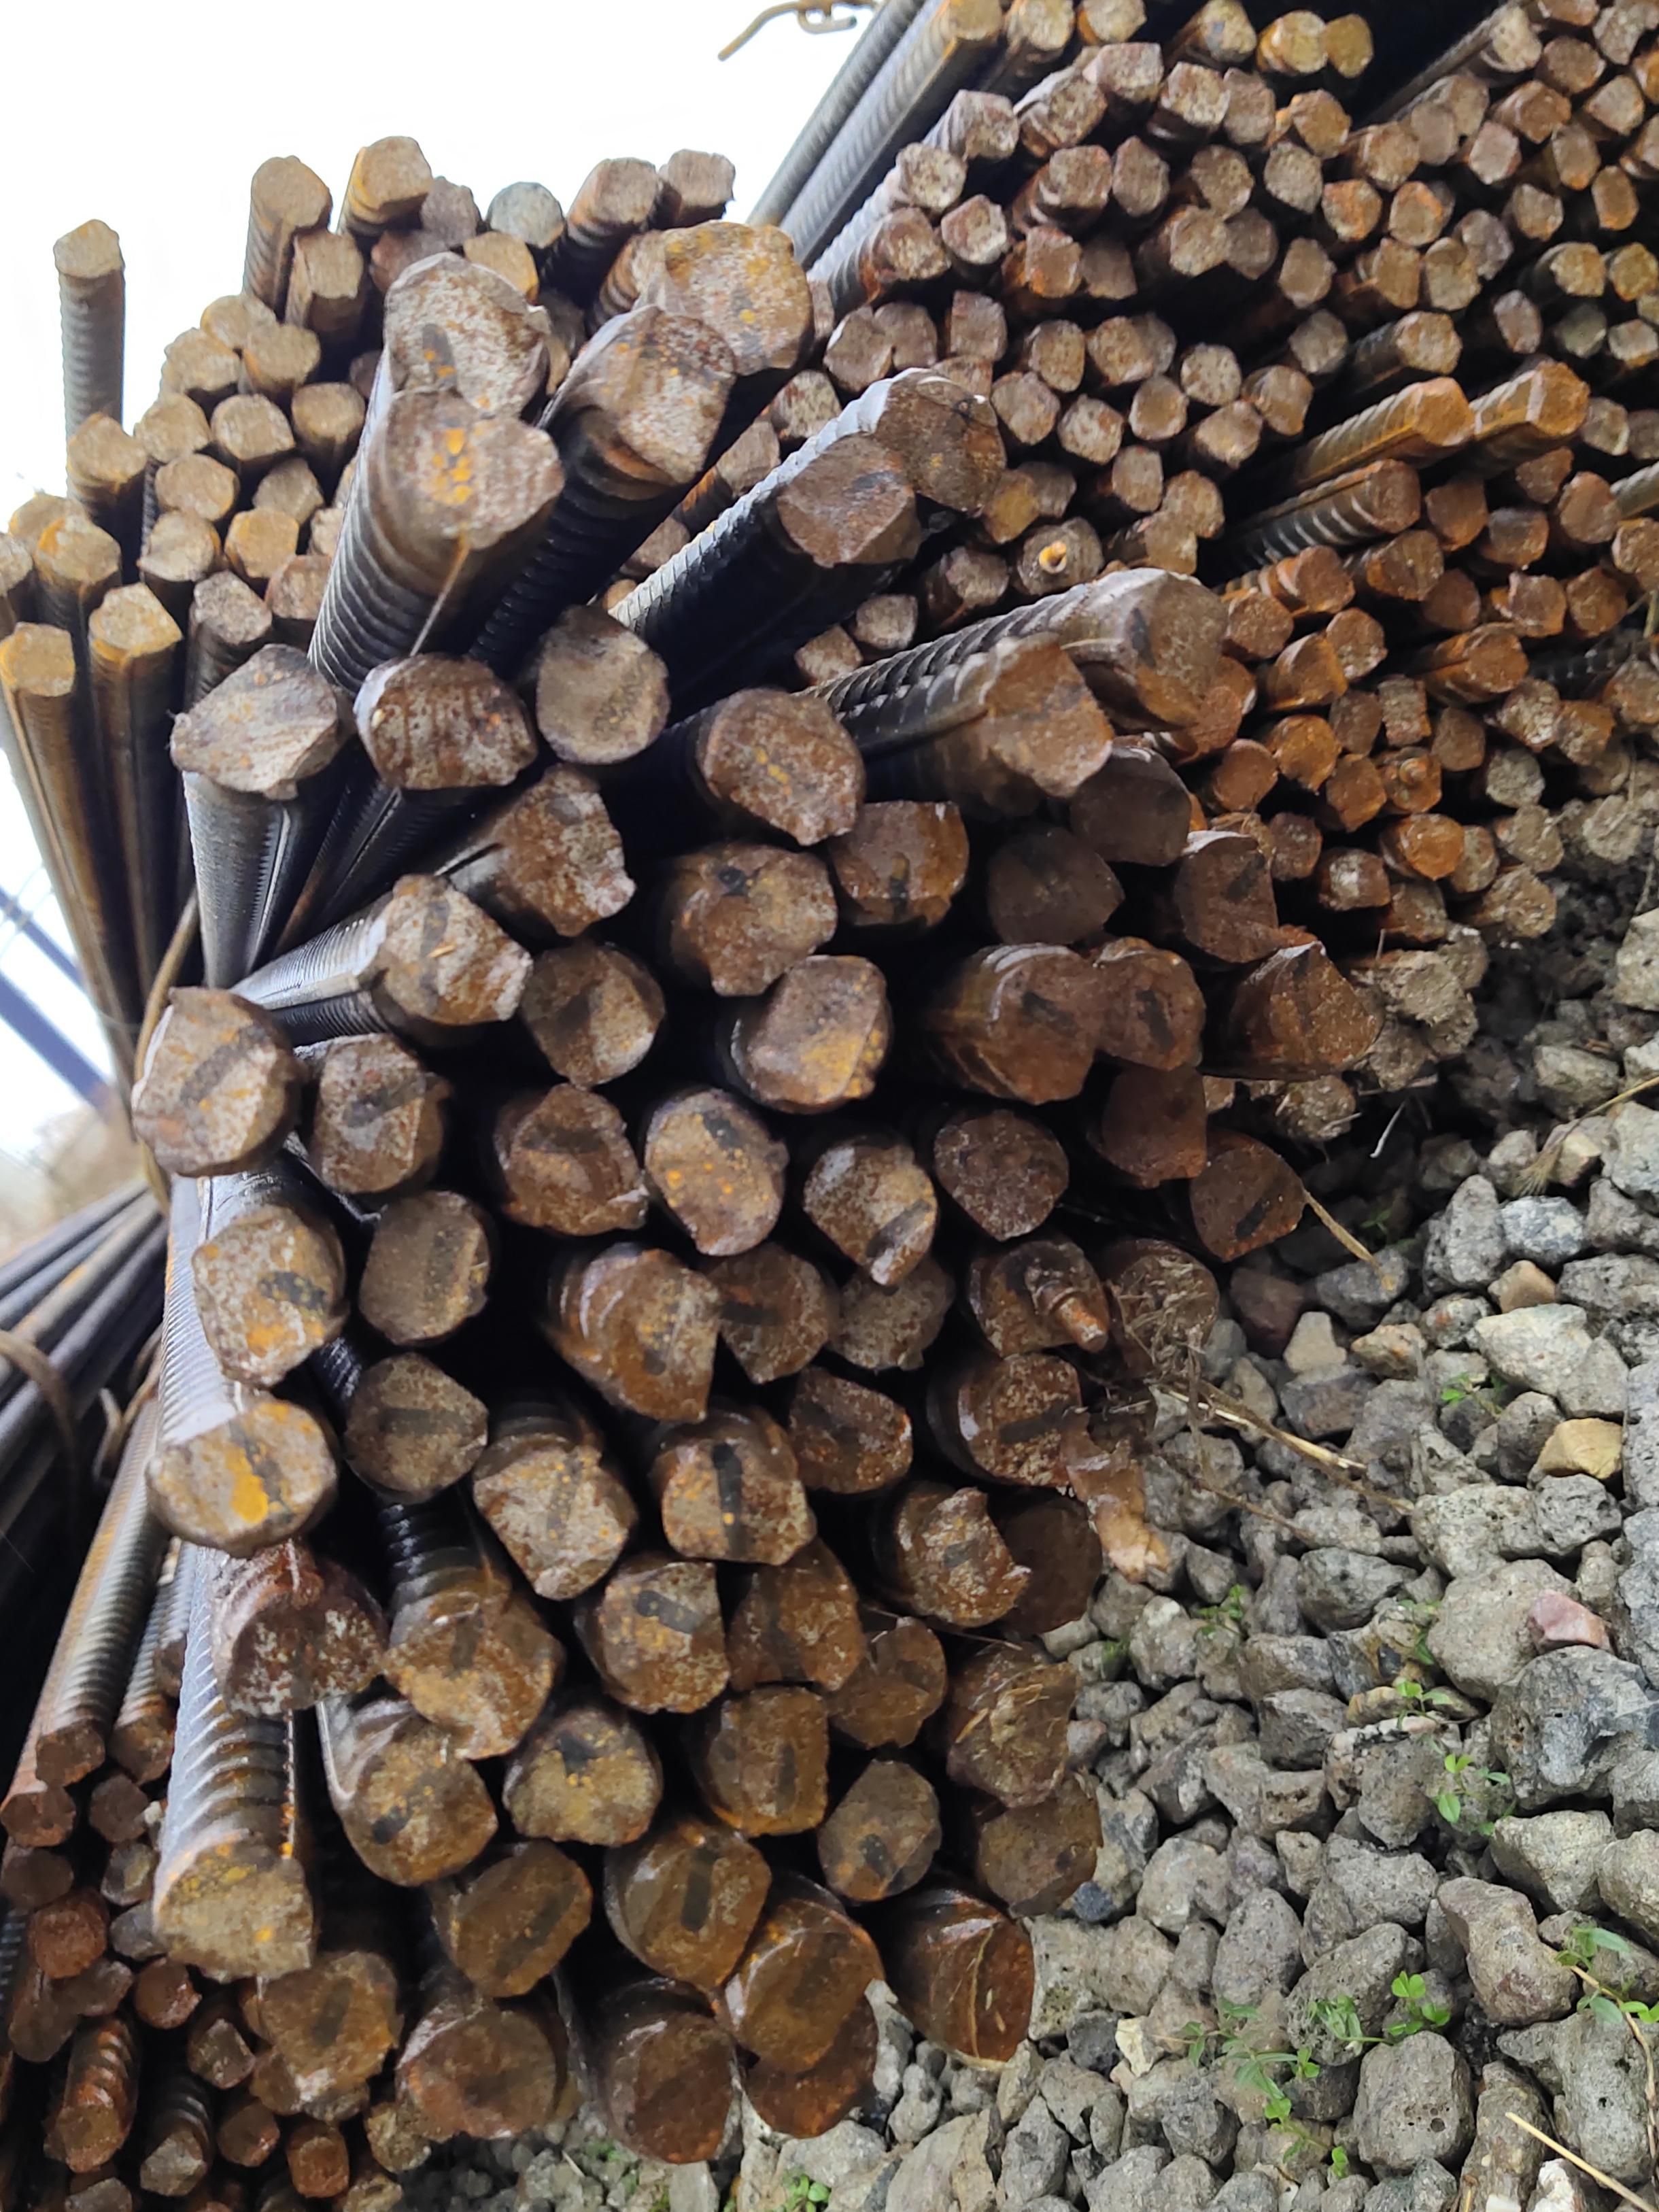rebar: (369, 383, 571, 553), (118, 983, 284, 1176), (573, 291, 731, 488), (188, 1195, 345, 1392), (390, 1589, 560, 1766), (137, 1401, 338, 1550), (377, 259, 554, 424), (165, 653, 347, 813), (352, 650, 542, 801), (637, 1083, 793, 1267), (463, 1440, 633, 1607), (687, 832, 848, 1002), (701, 682, 866, 848), (333, 1723, 501, 1886), (730, 1901, 887, 2074), (434, 1841, 598, 2006), (610, 1827, 770, 1995), (646, 218, 813, 376), (369, 872, 538, 1027), (209, 1585, 391, 1730), (496, 1079, 653, 1242), (496, 1700, 662, 1852), (488, 770, 638, 941), (795, 1129, 951, 1294), (973, 634, 1118, 805), (337, 1346, 494, 1505), (352, 1182, 494, 1357), (755, 954, 900, 1122), (150, 1841, 320, 1984), (527, 611, 678, 772), (598, 2008, 742, 2173), (596, 1553, 734, 1723), (390, 2008, 562, 2144), (737, 1990, 884, 2147), (907, 1906, 1050, 2065), (521, 927, 664, 1090), (941, 1654, 1086, 1809), (703, 1682, 837, 1845), (658, 1431, 813, 1571), (978, 936, 1104, 1108), (593, 1262, 726, 1420), (812, 1748, 944, 1907), (309, 1027, 433, 1195), (252, 1958, 399, 2099), (763, 439, 918, 573), (891, 1485, 1036, 1627), (957, 1351, 1104, 1491), (732, 1552, 870, 1697), (968, 1233, 1113, 1367), (964, 1793, 1111, 1924), (1112, 568, 1229, 730), (984, 823, 1127, 952), (879, 364, 1003, 512), (938, 1110, 1072, 1247), (712, 1242, 834, 1391), (1261, 940, 1395, 1074), (1091, 930, 1213, 1077), (842, 792, 973, 925), (783, 1378, 919, 1503), (825, 1258, 961, 1382), (1183, 1140, 1314, 1265), (1114, 1229, 1227, 1373), (1086, 1065, 1208, 1190), (842, 1614, 952, 1754), (1081, 743, 1199, 870), (1182, 834, 1284, 974), (1010, 1486, 1103, 1636), (82, 579, 186, 665), (186, 566, 277, 651), (36, 511, 126, 589), (28, 1896, 111, 1981), (66, 411, 154, 492), (1, 616, 79, 700), (352, 131, 435, 209), (826, 302, 897, 393), (291, 221, 367, 305), (209, 388, 296, 461), (1216, 585, 1296, 664), (134, 509, 218, 584), (246, 155, 330, 229), (458, 226, 539, 304), (159, 324, 244, 396), (152, 452, 239, 521), (48, 2098, 126, 2175), (878, 205, 953, 284), (1086, 307, 1157, 390), (1272, 712, 1342, 796), (130, 2128, 213, 2199), (1557, 465, 1628, 547), (1522, 357, 1591, 441), (1188, 139, 1256, 224), (225, 503, 300, 579), (948, 85, 1025, 161), (1158, 58, 1233, 132), (1389, 950, 1464, 1027), (1038, 69, 1109, 150), (1321, 605, 1392, 685), (587, 153, 662, 229), (938, 192, 1013, 267), (1390, 303, 1465, 378), (989, 370, 1061, 447), (1110, 129, 1172, 218), (211, 2098, 284, 2171), (265, 548, 339, 622), (1375, 528, 1449, 603), (134, 388, 211, 461), (774, 365, 844, 443), (488, 180, 568, 247), (1407, 371, 1475, 451), (874, 292, 941, 375), (1279, 1076, 1362, 1144), (1460, 619, 1531, 694), (1473, 1, 1543, 78), (714, 417, 784, 493), (243, 318, 320, 386), (1285, 82, 1353, 160), (1253, 361, 1321, 440), (48, 218, 124, 288), (1497, 801, 1567, 877), (87, 1771, 155, 1847), (415, 173, 482, 250), (1059, 394, 1125, 471), (1274, 234, 1341, 312), (186, 2018, 258, 2090), (1172, 337, 1245, 409), (250, 454, 322, 524), (1165, 205, 1235, 277), (1196, 396, 1265, 469), (1320, 849, 1392, 919), (662, 145, 736, 214), (851, 584, 925, 652), (4, 1787, 80, 1852), (1021, 315, 1088, 393), (1288, 540, 1354, 617), (288, 379, 366, 445), (1564, 561, 1630, 639), (1577, 796, 1646, 866), (1401, 811, 1470, 882), (895, 143, 968, 210), (1496, 677, 1564, 752), (31, 1722, 107, 1789), (57, 1953, 133, 2019), (976, 466, 1041, 542), (1324, 754, 1389, 832), (1362, 456, 1424, 535), (1418, 560, 1482, 637), (1496, 864, 1558, 943), (945, 283, 1005, 362), (1267, 6, 1335, 78), (1018, 526, 1087, 597), (1258, 809, 1326, 880), (5, 1991, 72, 2063), (361, 2107, 434, 2173), (1424, 474, 1490, 548), (1261, 137, 1326, 213), (1554, 692, 1618, 766), (201, 291, 280, 350), (1422, 236, 1482, 315), (132, 1961, 199, 2033), (1020, 225, 1085, 296), (1287, 634, 1352, 709), (110, 1710, 173, 1784), (1216, 738, 1280, 814), (367, 226, 447, 286), (1318, 171, 1384, 241), (1287, 305, 1352, 377), (1361, 119, 1423, 192), (1365, 237, 1426, 310), (1320, 12, 1380, 86), (1222, 65, 1277, 147), (1456, 209, 1515, 286), (1373, 673, 1433, 749), (944, 545, 1012, 609), (1504, 571, 1570, 639), (1128, 370, 1192, 440), (793, 619, 863, 684), (1510, 75, 1571, 148), (1095, 40, 1167, 101), (1367, 1021, 1428, 1094), (2, 1851, 77, 1911), (1224, 201, 1278, 282), (10, 485, 86, 542), (284, 2133, 350, 2199), (1483, 505, 1550, 571), (1583, 71, 1647, 139), (1052, 143, 1117, 210), (1182, 681, 1244, 752), (1165, 467, 1227, 539), (1541, 31, 1609, 95), (1429, 705, 1491, 775), (1140, 507, 1199, 579), (1483, 745, 1547, 811), (1543, 122, 1605, 190), (1110, 446, 1169, 515), (1515, 438, 1578, 500), (1195, 3, 1261, 64), (1390, 877, 1451, 943), (99, 1837, 158, 1905), (1575, 391, 1632, 462), (1387, 744, 1443, 815), (1488, 286, 1543, 358), (1606, 234, 1659, 308), (1388, 180, 1446, 248), (1324, 685, 1381, 755), (1609, 658, 1659, 736), (1019, 456, 1078, 520), (109, 1901, 173, 1962), (1404, 100, 1464, 165), (1545, 241, 1607, 299), (1591, 163, 1645, 231), (1509, 177, 1567, 241), (1552, 299, 1611, 362), (1437, 71, 1492, 137), (1076, 1, 1148, 50), (1205, 651, 1256, 719), (1081, 237, 1138, 299), (254, 2048, 307, 2115), (1013, 1, 1078, 54), (1429, 991, 1482, 1058), (1579, 736, 1635, 796), (1452, 823, 1501, 893), (1590, 7, 1644, 69), (1467, 120, 1520, 186), (934, 346, 993, 403), (1611, 514, 1659, 579), (1606, 312, 1659, 369), (307, 496, 355, 555), (940, 1, 1004, 43), (153, 1635, 196, 1696), (339, 2174, 405, 2212), (1, 526, 34, 598), (1146, 312, 1182, 375), (1624, 758, 1659, 815), (1630, 407, 1659, 465), (1638, 290, 1659, 322)
